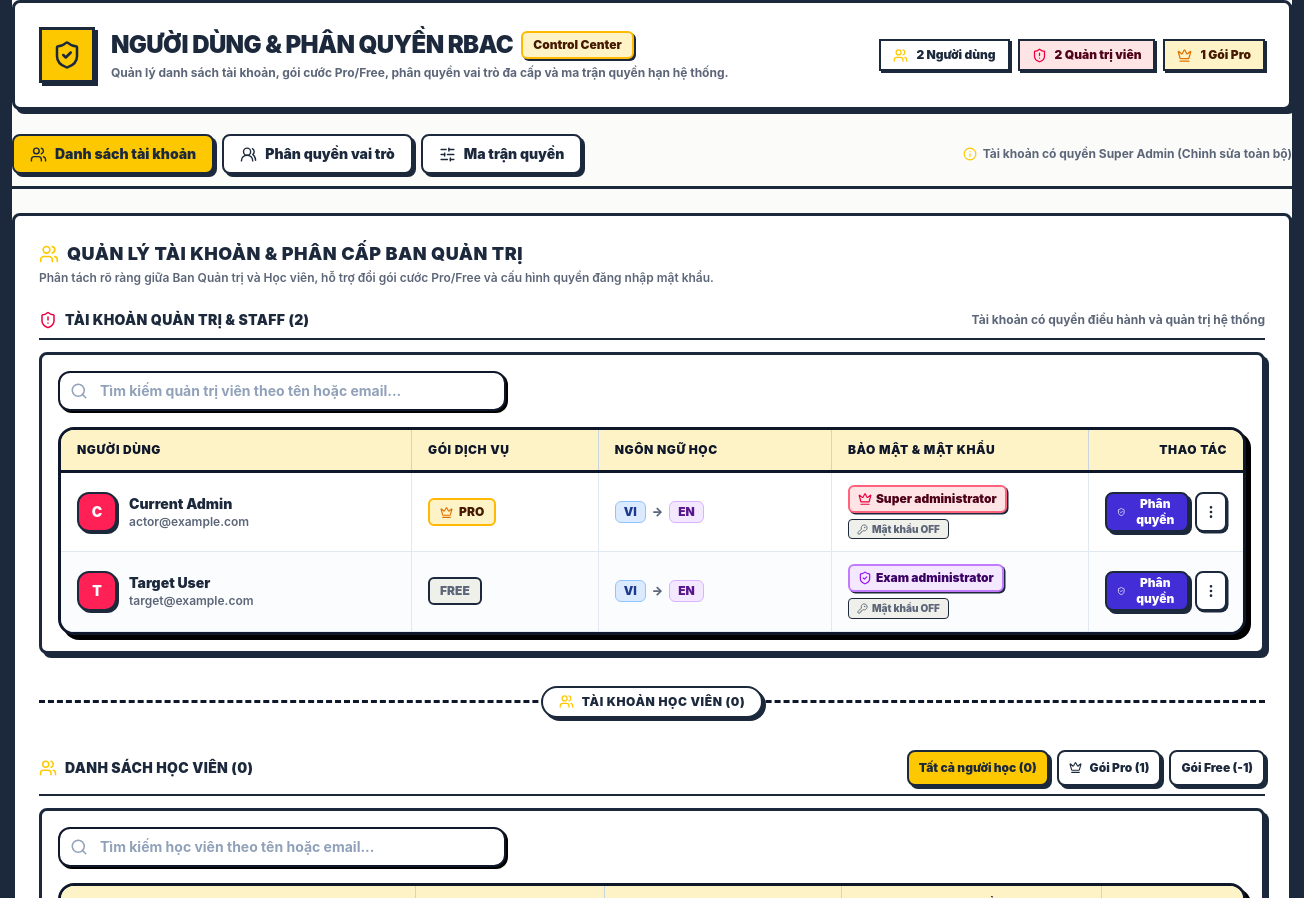
Test: AdminRolesPage › uses the RBAC dialog as the only administrator role action in the account list
The image size is (1304, 898).
Expected: the button with aria-label "phân quyền target user" is shown, [1105,571,1189,611]
Click the button named "thao tác tài khoản target user". click: click(1211, 591)
box: [1195,571,1227,611]
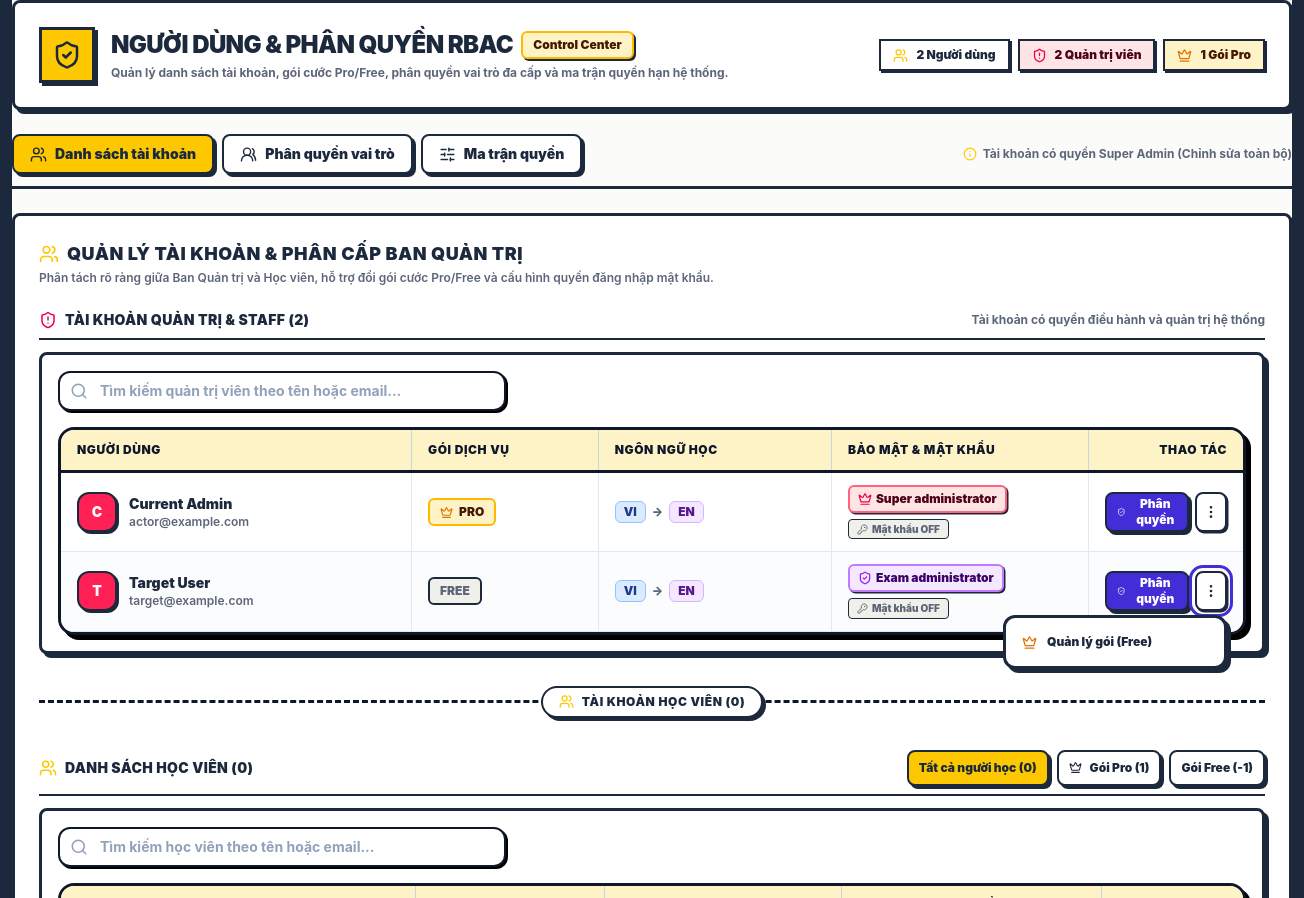
Expected: the link "Quản lý gói (Free)" is shown, [1022,634,1152,650]
